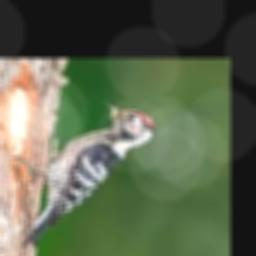Woodpecker: (13, 101, 157, 245)
